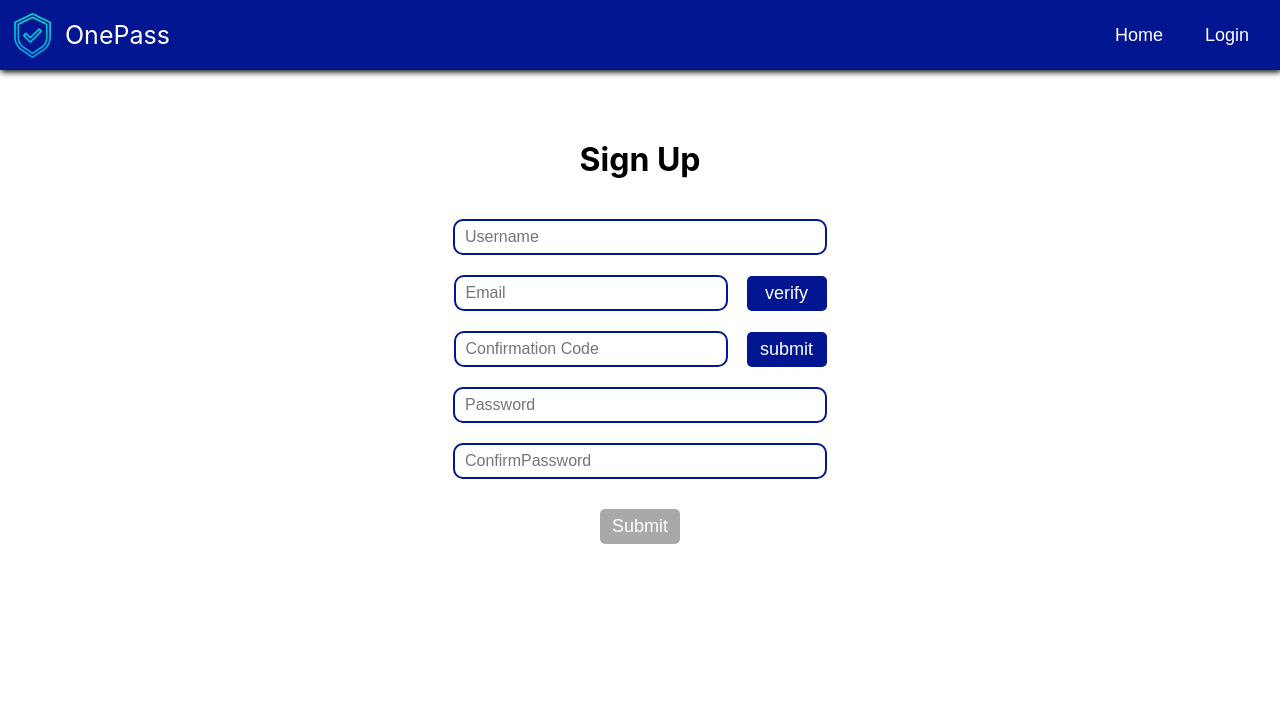
Test: <Signup /> › Error message should show if given username is not a valid email
In the field with placeholder "Username": (640,237) [453,219,827,255], type "test@test"
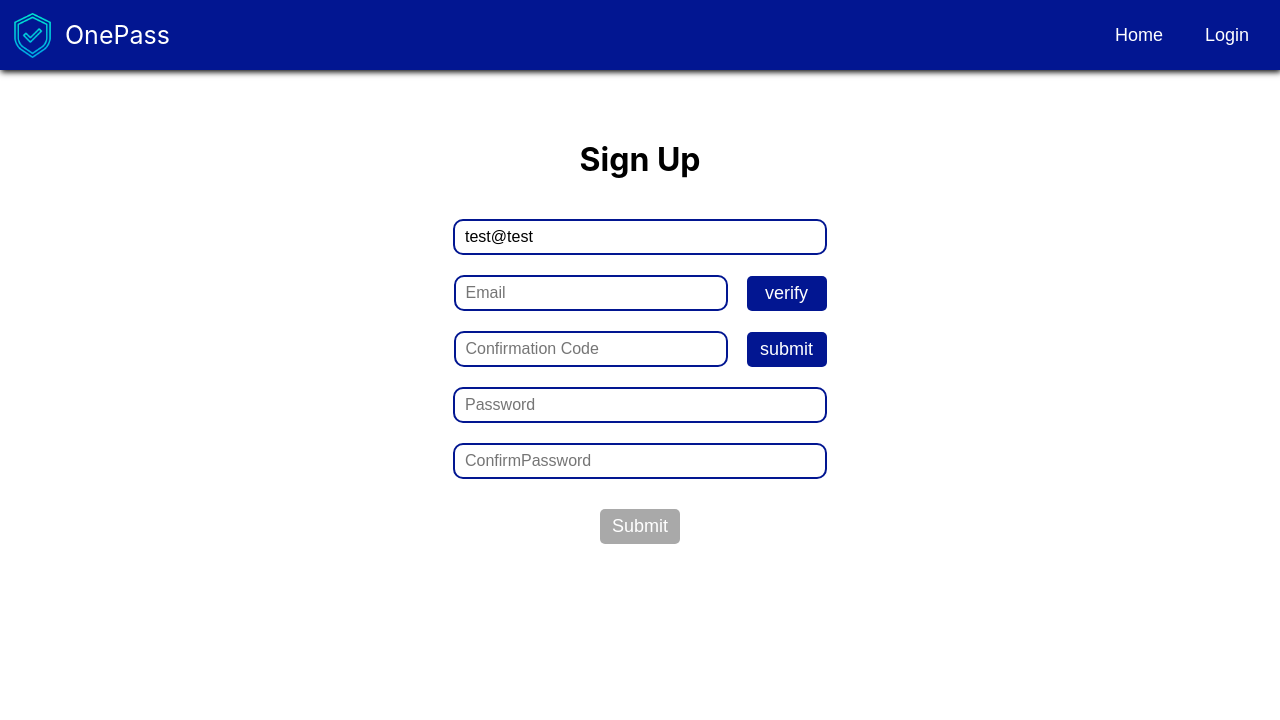
Click the button "verify": (786,293) [746,276,826,310]
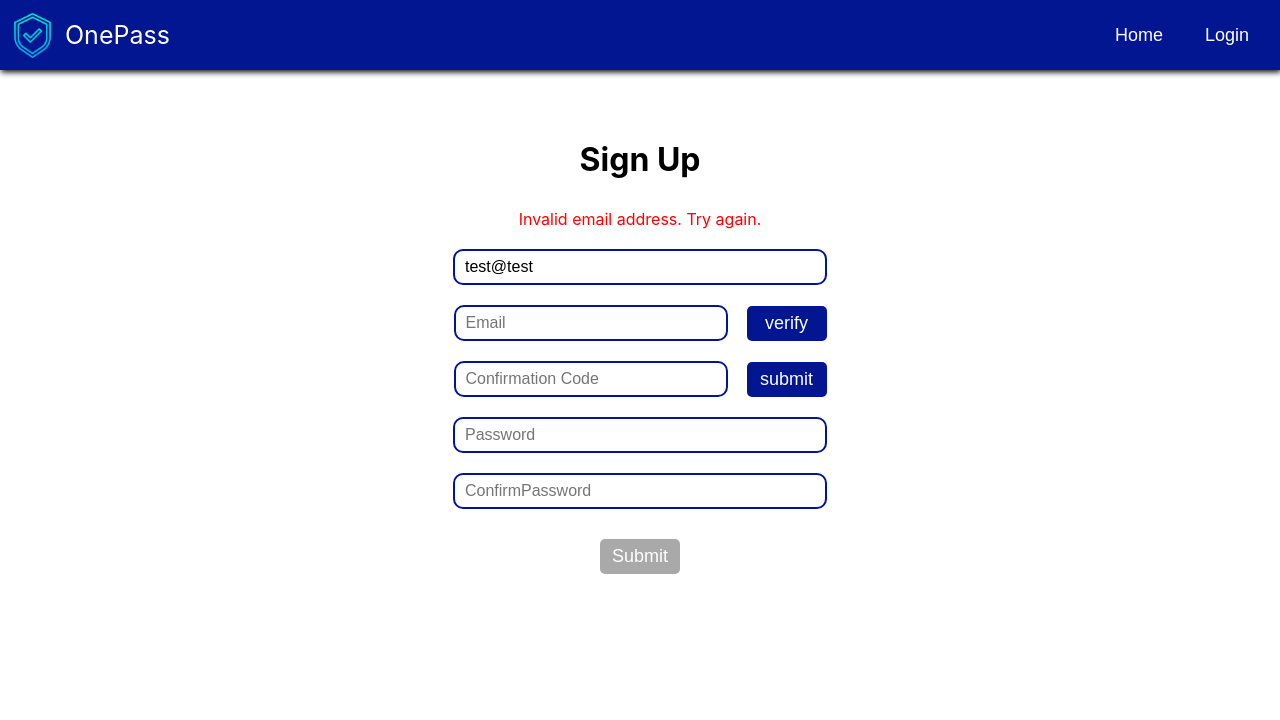
expect the text "Invalid email address. Try again." is shown: met, box [519,209,761,229]
